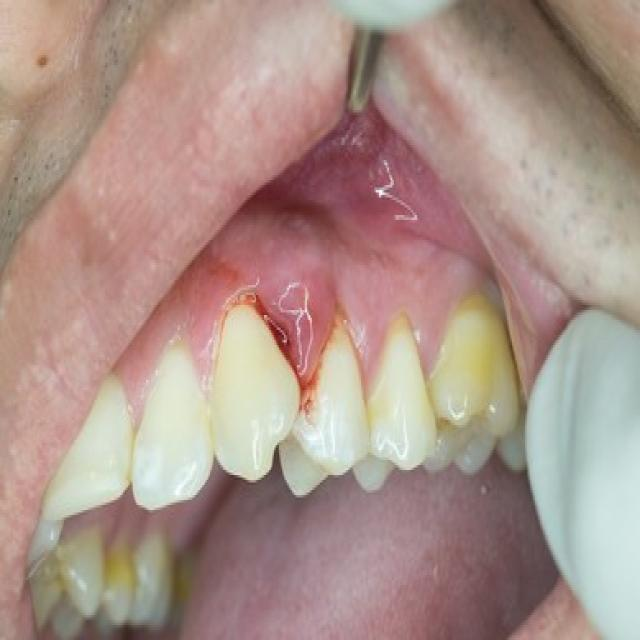abscess: (214, 254, 378, 422)
